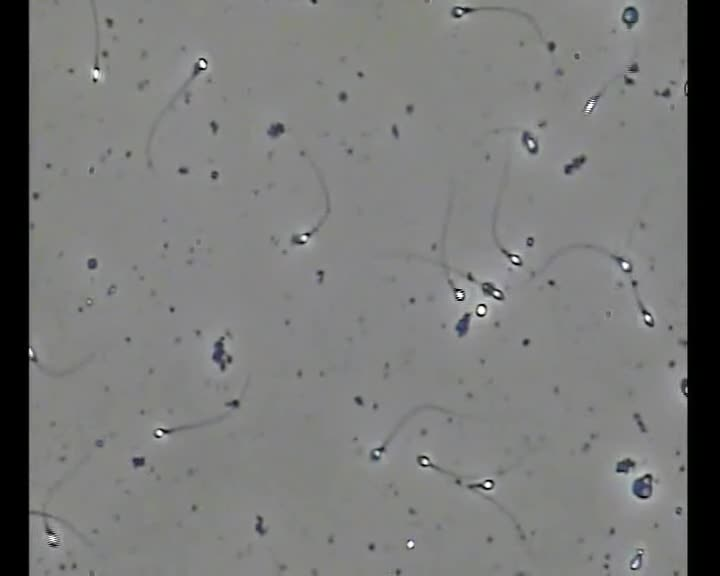spermhead: (291, 231, 311, 245), (89, 64, 103, 83), (369, 445, 384, 460), (417, 454, 432, 467)
